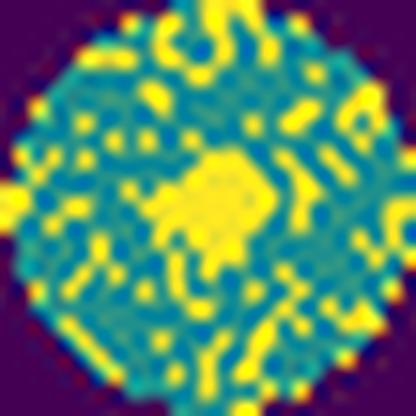Center: (131, 145, 281, 285)
